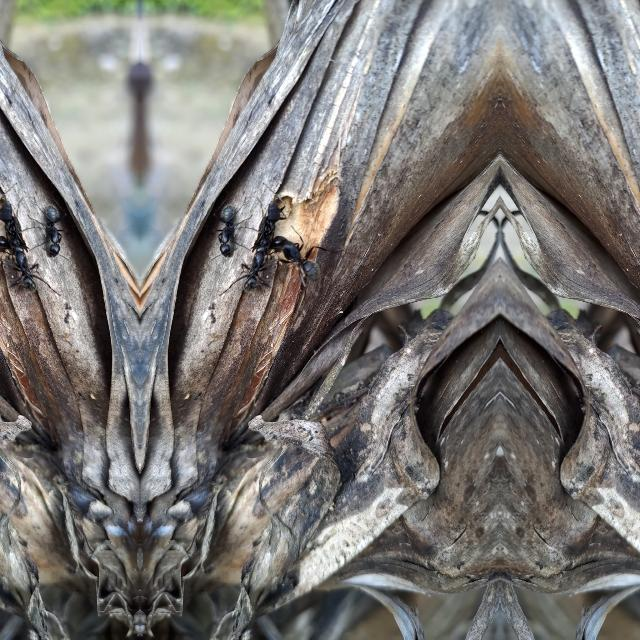Camponotus: (270, 228, 328, 290), (210, 199, 248, 259), (32, 199, 70, 259), (245, 248, 277, 296), (3, 248, 35, 296)
